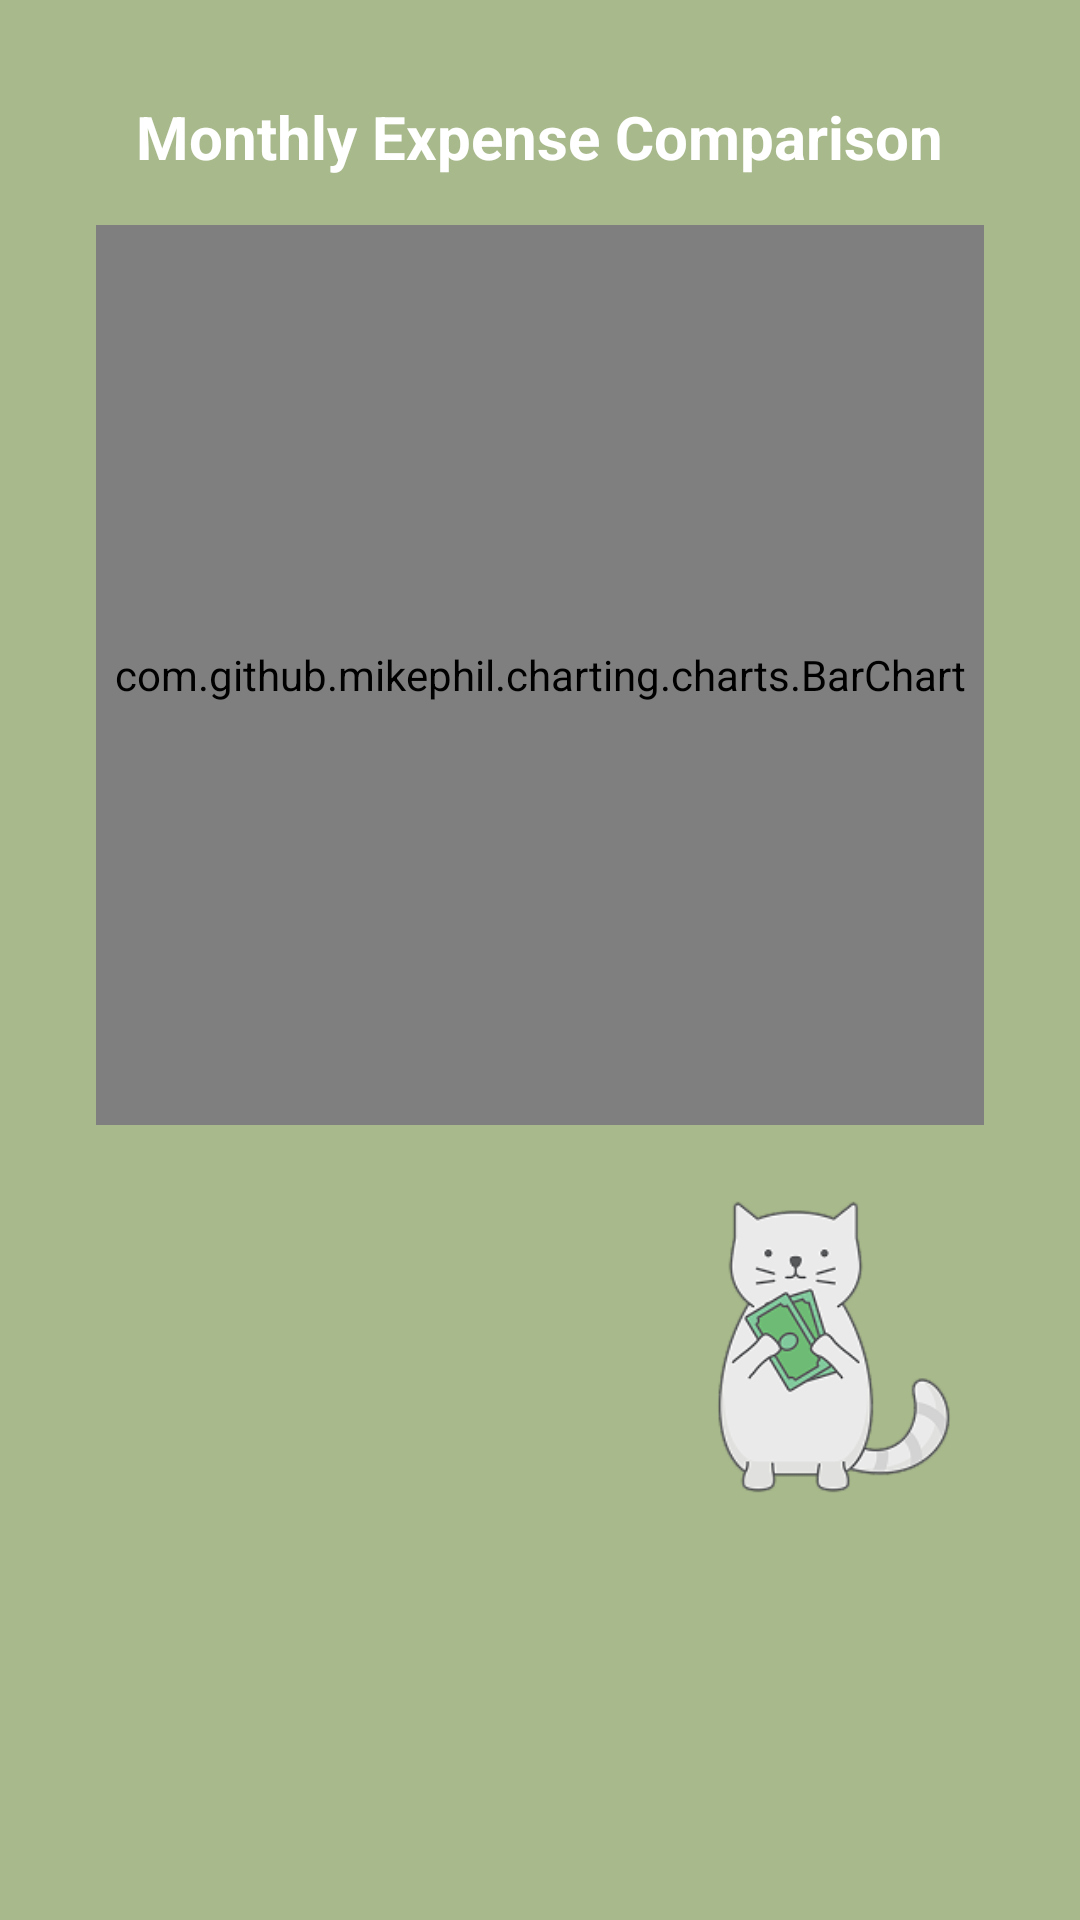

Screen size 1080*1920. Icon name, then its center in pixels as (x,y):
cat: (834,1347)
